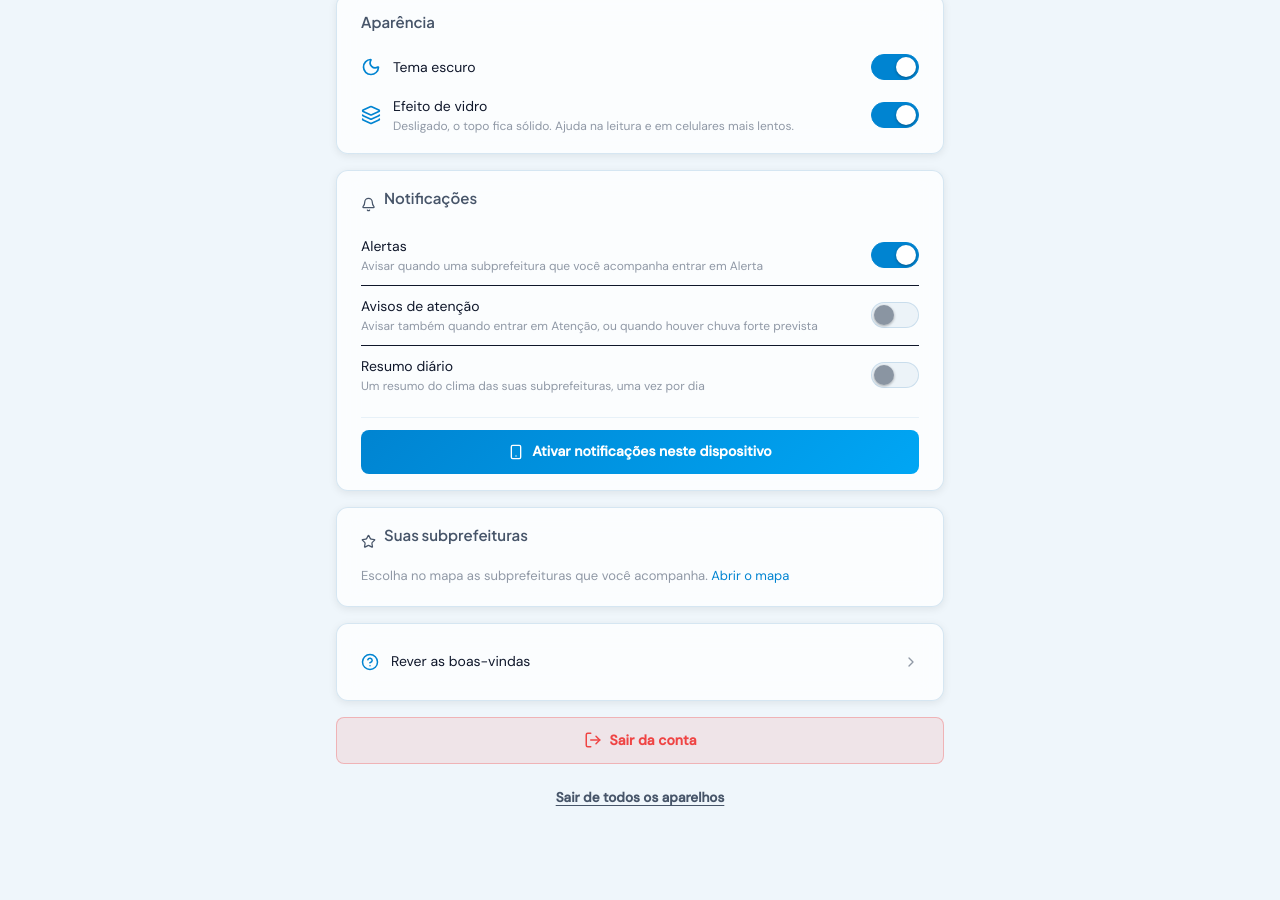
Test: Configurações: sair de todos os aparelhos (SEC2, opção 1 + folha) › o link abre a folha com a explicação; Cancelar fecha sem sair
(page scrolled)
Click the button "Sair de todos os aparelhos".
click(640, 798)  # box [556,776,724,820]
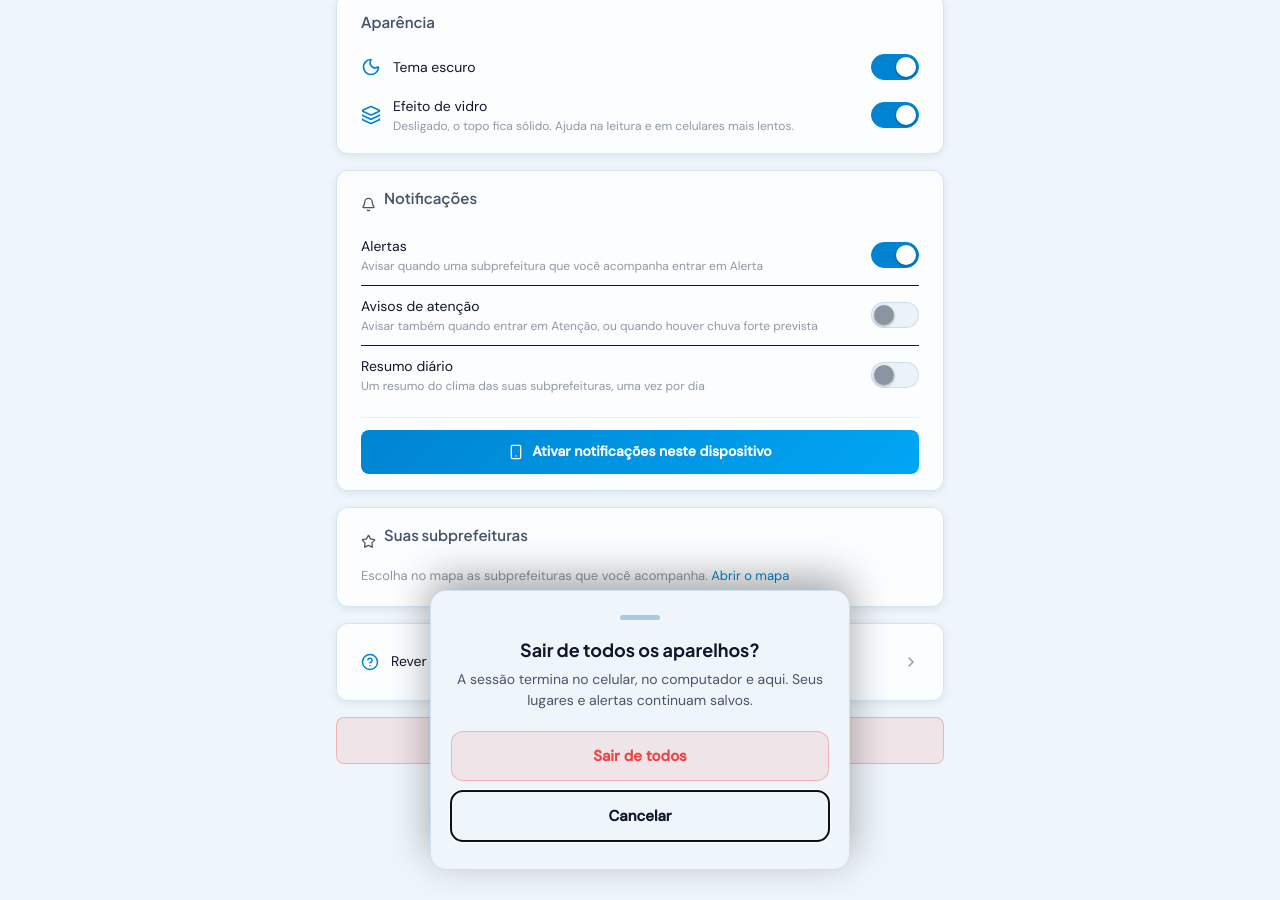
Result: the dialog "Sair de todos os aparelhos?" is shown at [430,590,850,870]
Result: the text "A sessão termina no celular, no computador e aqui. Seus lugares e alertas continuam salvos." is shown at [457,670,823,709]
Click the button "Cancelar".
click(640, 816)  # box [451,791,829,841]
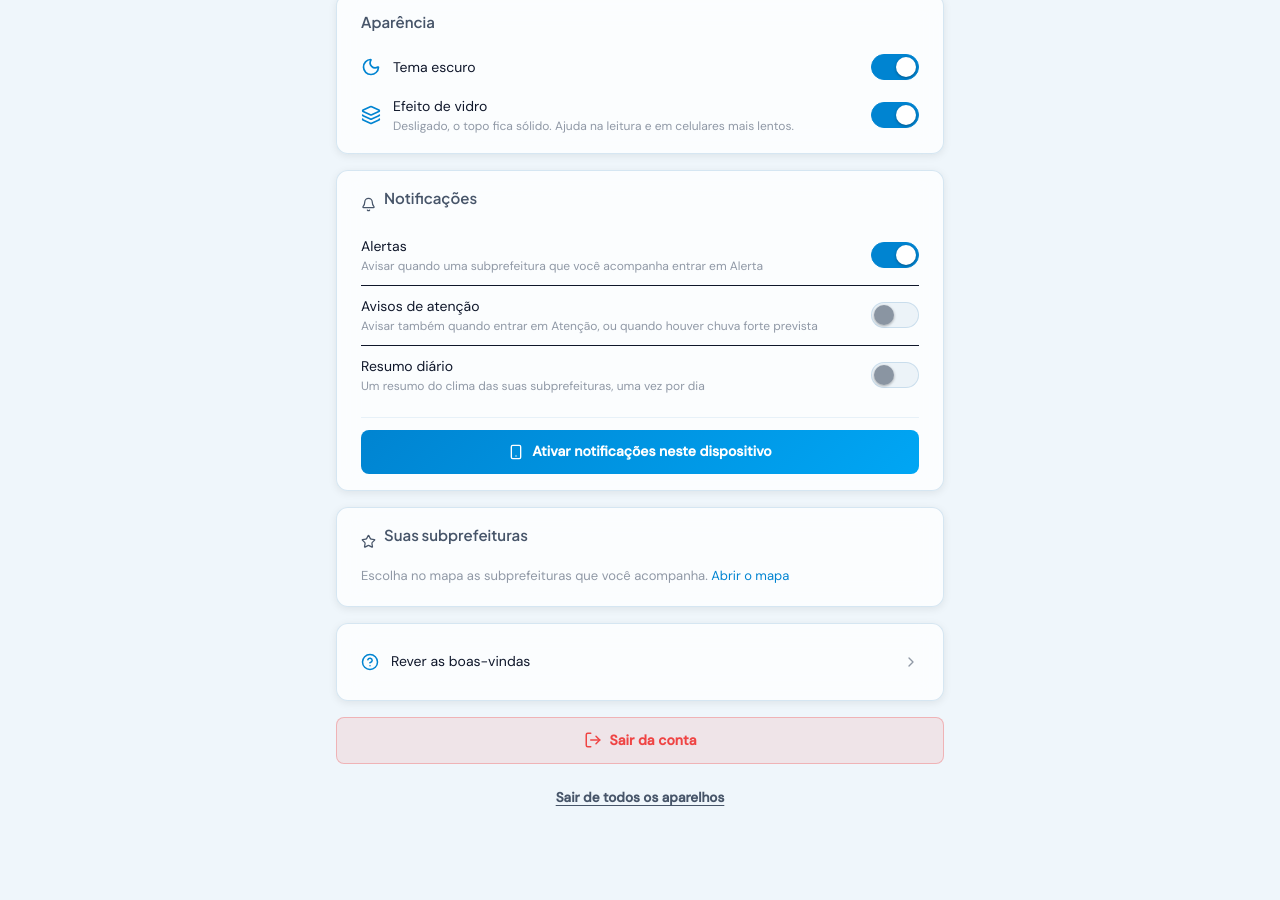
Result: the dialog is gone
